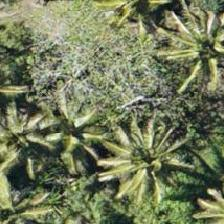coconut_tree: (87, 110, 177, 200)
